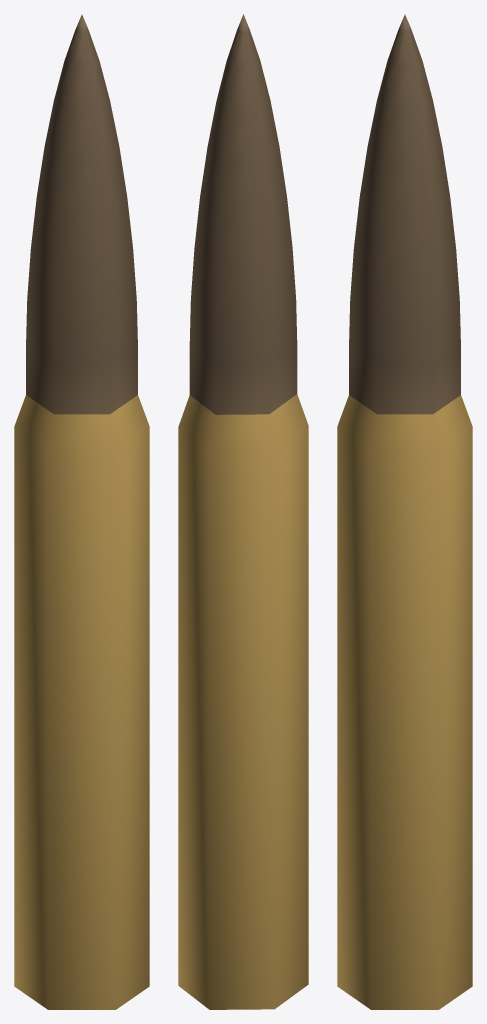
Rendered from bullet2.fbx.
The picture shows the model from 3 angles, left to right: view 1: azimuth 90°, elevation 25°; view 2: azimuth 150°, elevation 25°; view 3: azimuth 270°, elevation 25°; orthographic projection.
Visible parts, largest first — view 1: Cylinder; view 2: Cylinder; view 3: Cylinder.
Part boxes in pixels (x1=…): Cylinder: x1=14, y1=14, x2=149, y2=1009; Cylinder: x1=178, y1=14, x2=308, y2=1009; Cylinder: x1=337, y1=14, x2=472, y2=1009.
Size of the model in its own units: 68.47 by 660 by 83.31.
